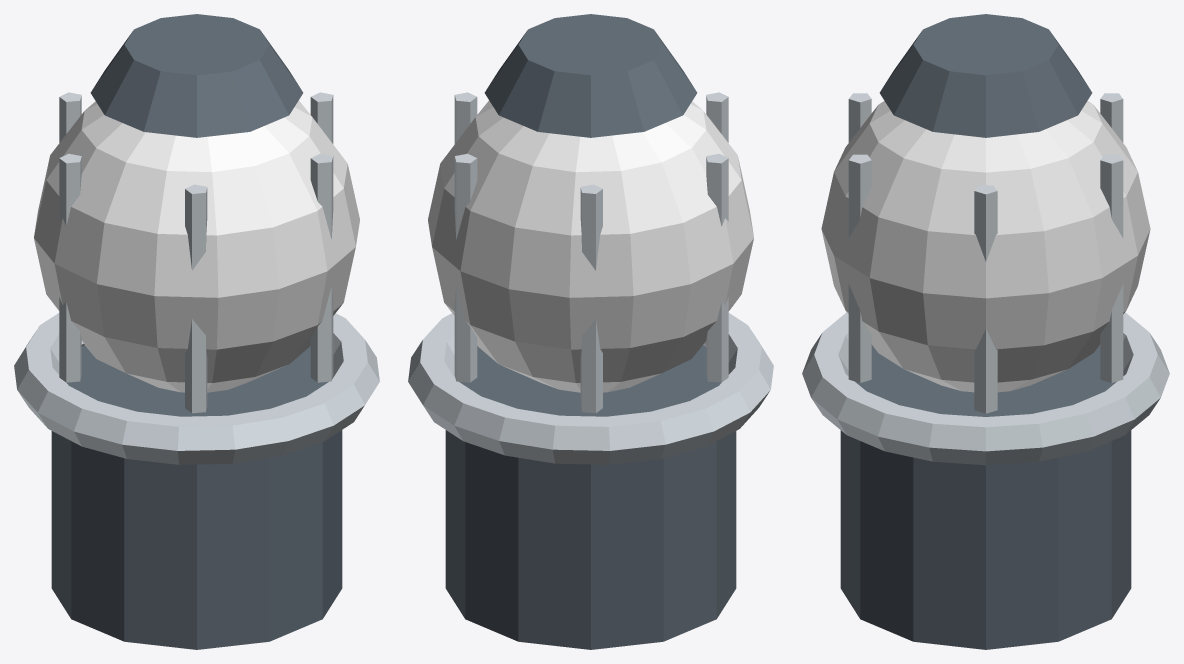
The model's file is baliza.glb.
3 views of the same model, side by side, from view 1: azimuth 30°, elevation 25°; view 2: azimuth 150°, elevation 25°; view 3: azimuth 270°, elevation 25° (orthographic).
Parts seen in each view (by area): view 1: baliza; view 2: baliza; view 3: baliza.
Boxes of the visible parts, left/top/right/bottom form: baliza: left=14, top=14, right=379, bottom=649; baliza: left=408, top=14, right=773, bottom=649; baliza: left=802, top=14, right=1169, bottom=649.
Bounding box in the file's own units: 0.76 × 1.24 × 0.76.
